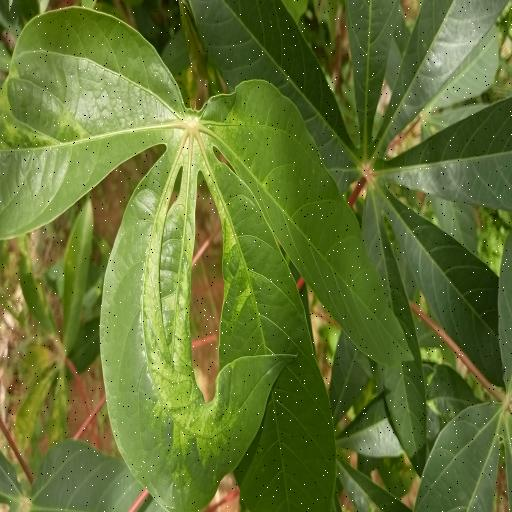Cassava_Healthy: (226, 0, 512, 484)
Cassava_Mosaic: (0, 2, 412, 511)
